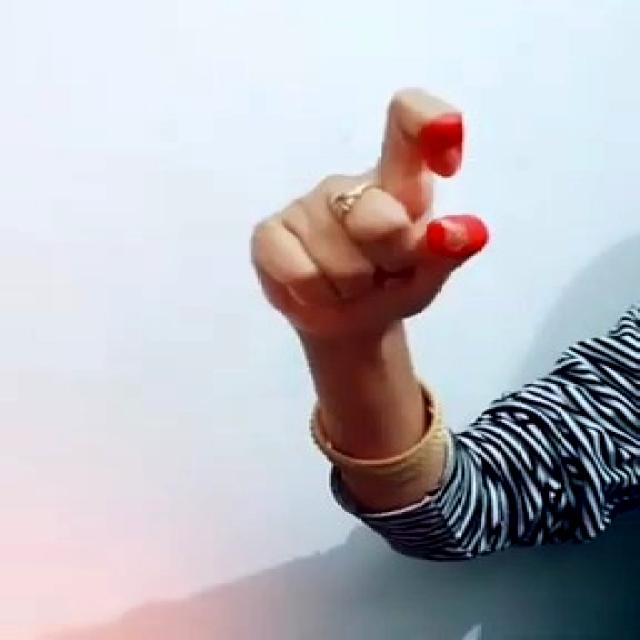Kapittha: (235, 80, 518, 336)
bangle: (281, 374, 484, 484)
